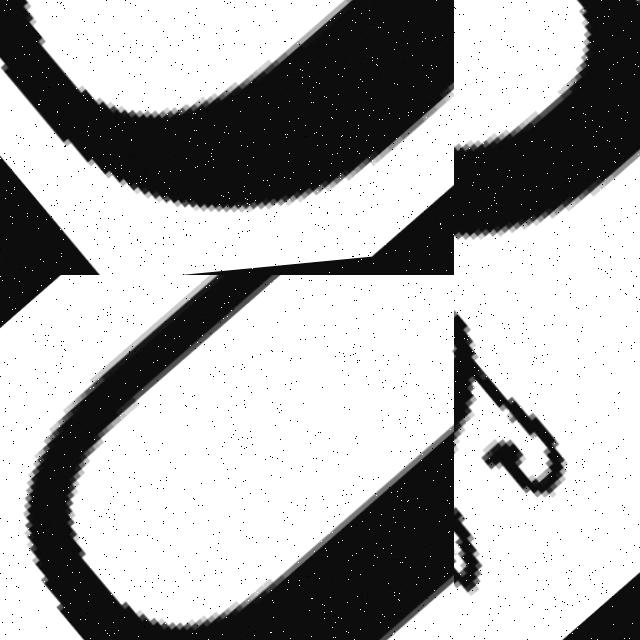6: (454, 0, 640, 275)
G: (0, 0, 454, 275)
H: (454, 275, 566, 640)
U: (0, 275, 454, 640)
